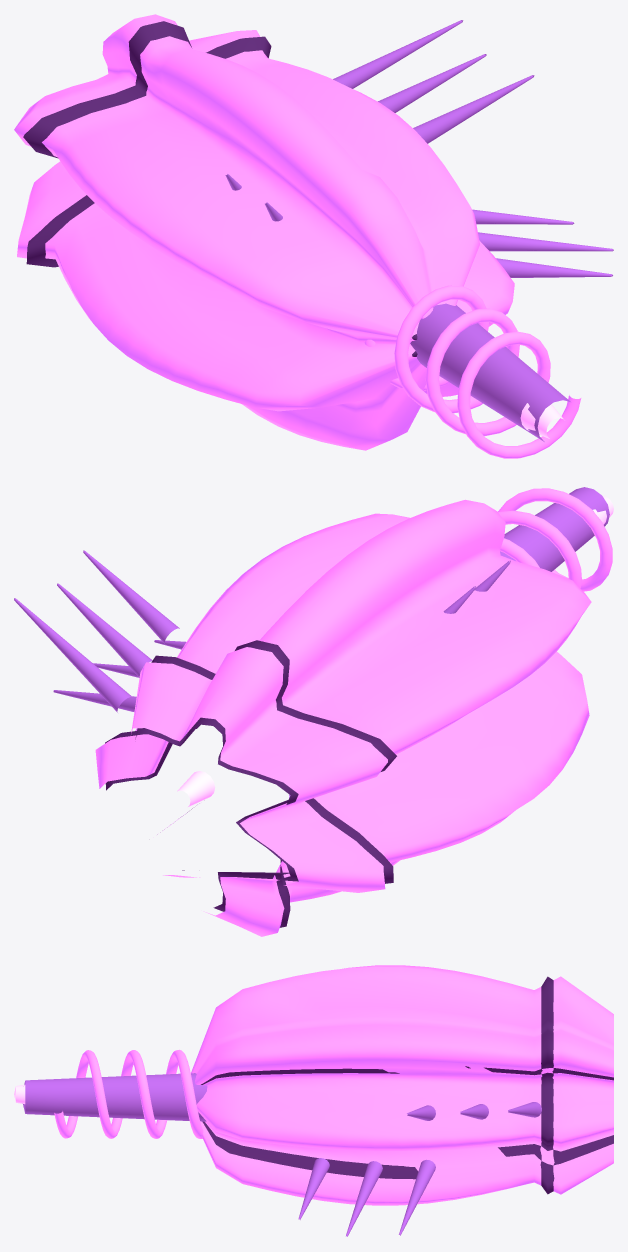
File: voidborn_dreadnought.glb
3 views of the same model, one above another, from view 1: azimuth 30°, elevation 25°; view 2: azimuth 150°, elevation 25°; view 3: azimuth 270°, elevation 25° (orthographic). The views are drawn at different scales.
Visible parts, largest first — view 1: voidborn_dreadnought; view 2: voidborn_dreadnought; view 3: voidborn_dreadnought.
Part boxes in pixels (bbox=[...]): voidborn_dreadnought: bbox=[14, 14, 613, 458]; voidborn_dreadnought: bbox=[14, 487, 613, 936]; voidborn_dreadnought: bbox=[14, 965, 613, 1236].
Size of the model in its own units: 2.92 by 1.89 by 4.52.
